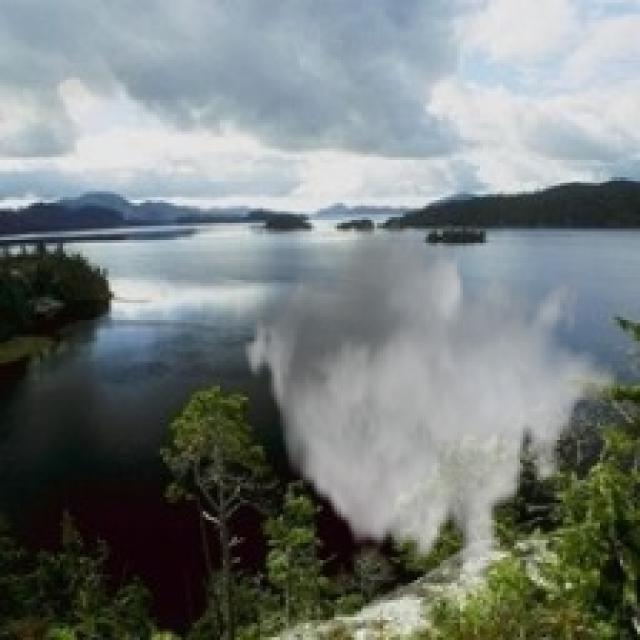smoke: (240, 212, 617, 588)
